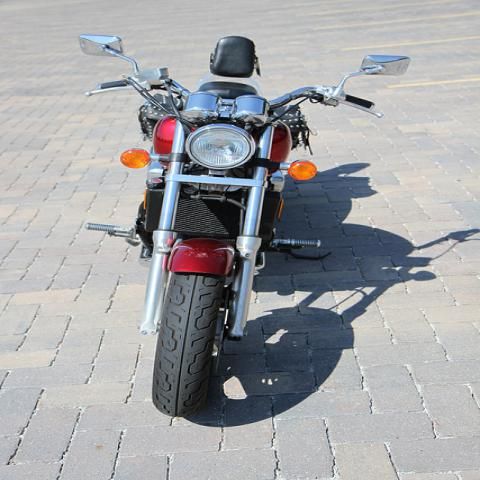motorcycle: (76, 33, 411, 420)
